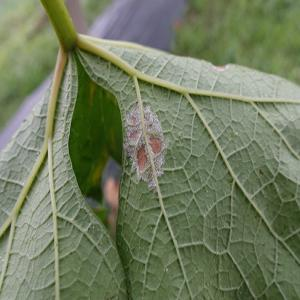Folha: (1, 1, 299, 298)
Fungo: (123, 100, 169, 194)
